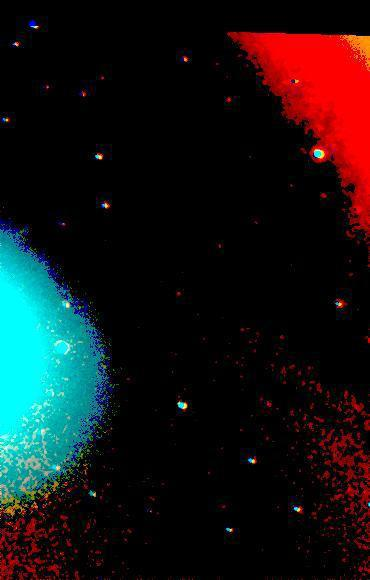star: (307, 111, 337, 141)
